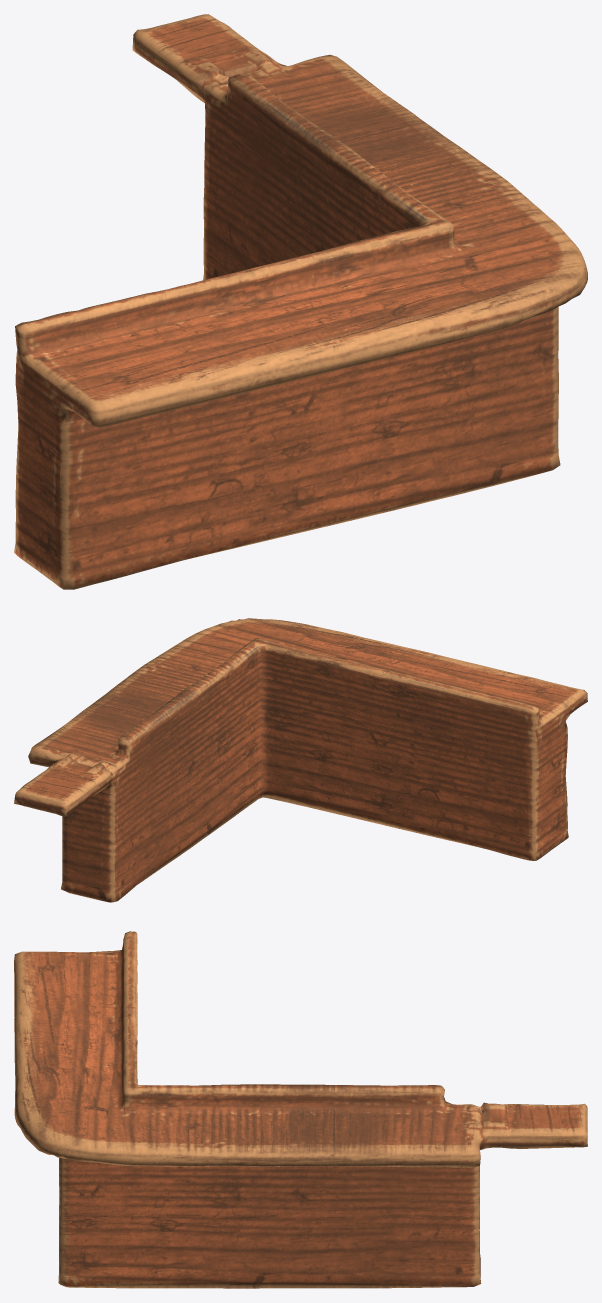
Rendered from Counter.fbx.
3 renders of one model, top to bottom at view 1: azimuth 30°, elevation 25°; view 2: azimuth 150°, elevation 25°; view 3: azimuth 270°, elevation 25°, orthographic. The views are drawn at different scales.
Parts seen in each view (by area): view 1: benkstartlowpoly; view 2: benkstartlowpoly; view 3: benkstartlowpoly.
Part boxes in pixels (x1,y1,x2,y2): benkstartlowpoly: (14,14,587,589); benkstartlowpoly: (14,618,587,902); benkstartlowpoly: (14,931,587,1288).
Bounding box in the file's own units: 289 × 119 × 345.
